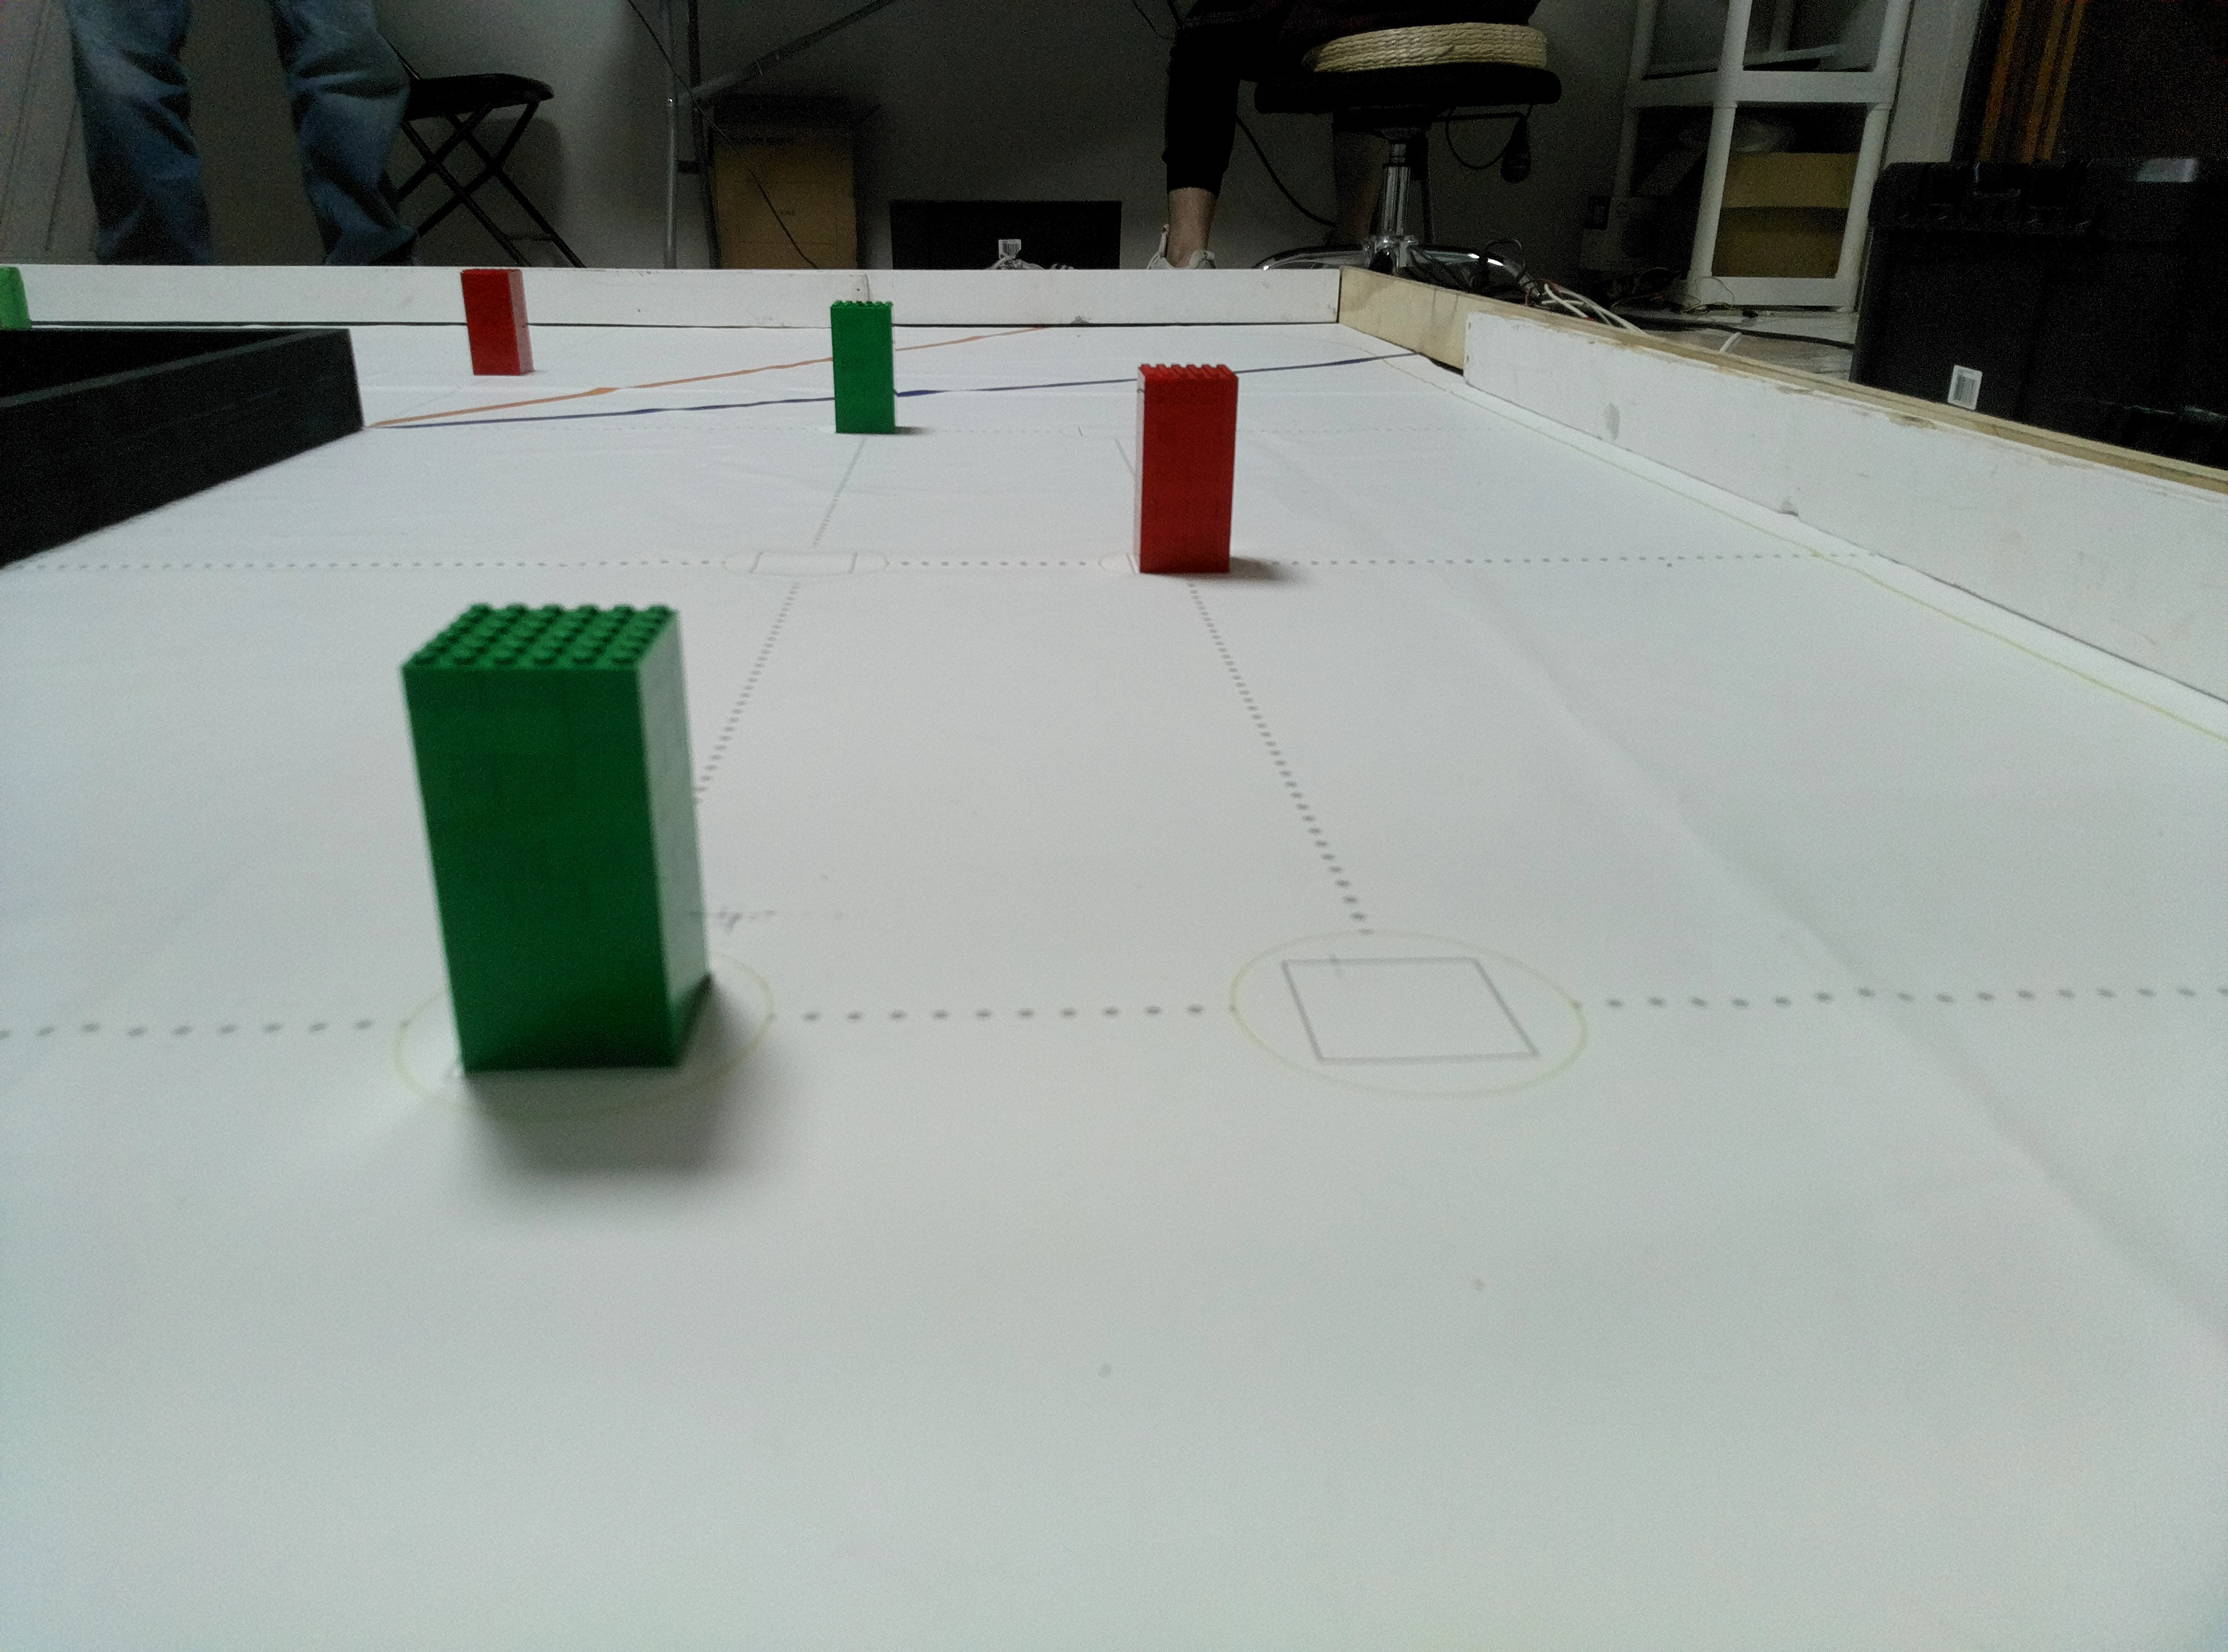greenbox: (404, 599, 718, 1072), (826, 297, 897, 434), (0, 259, 31, 333)
redbox: (1128, 357, 1235, 580), (456, 271, 529, 378)
